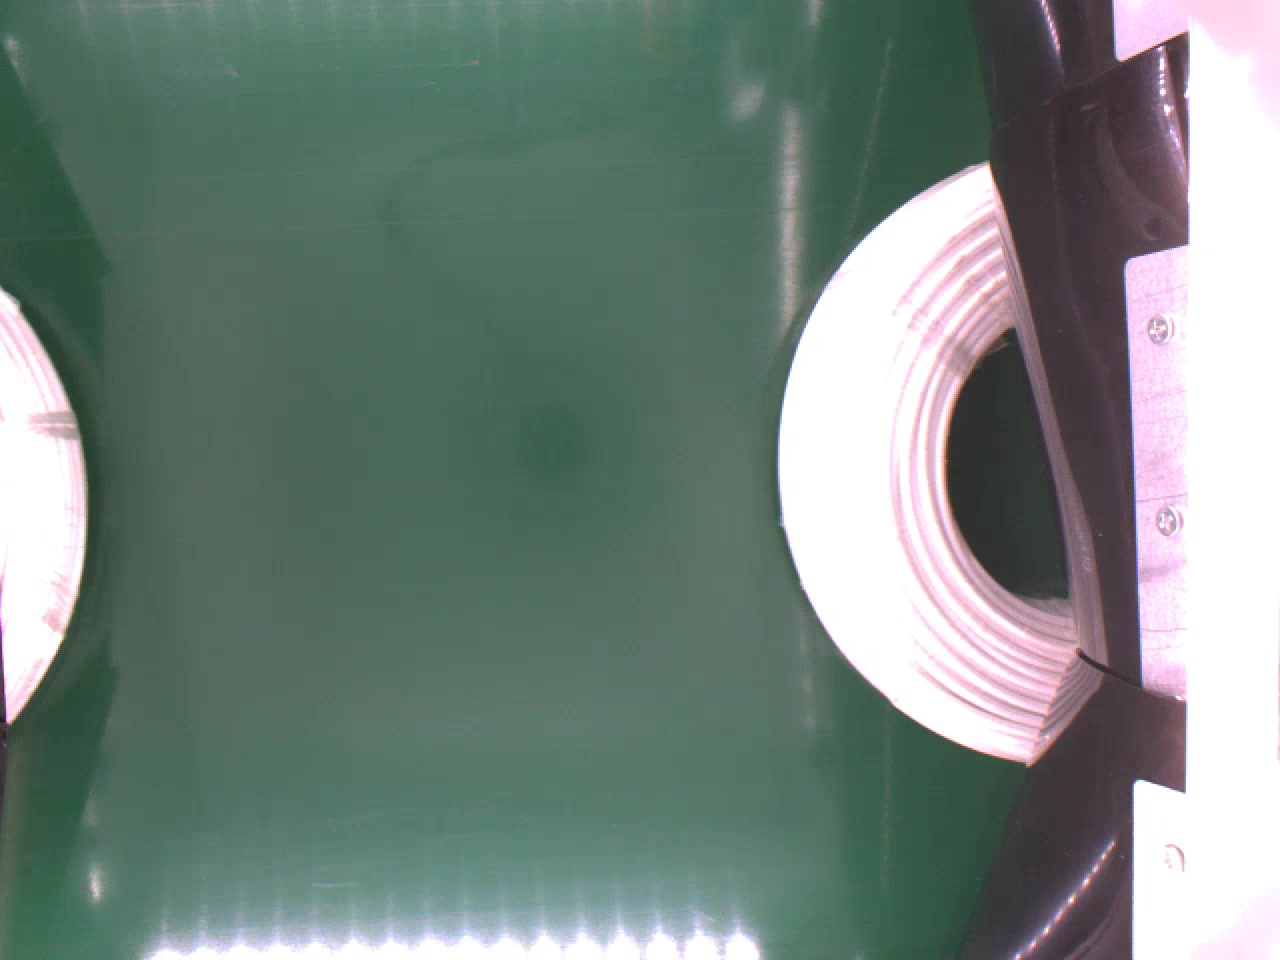white: (769, 150, 1082, 762)
